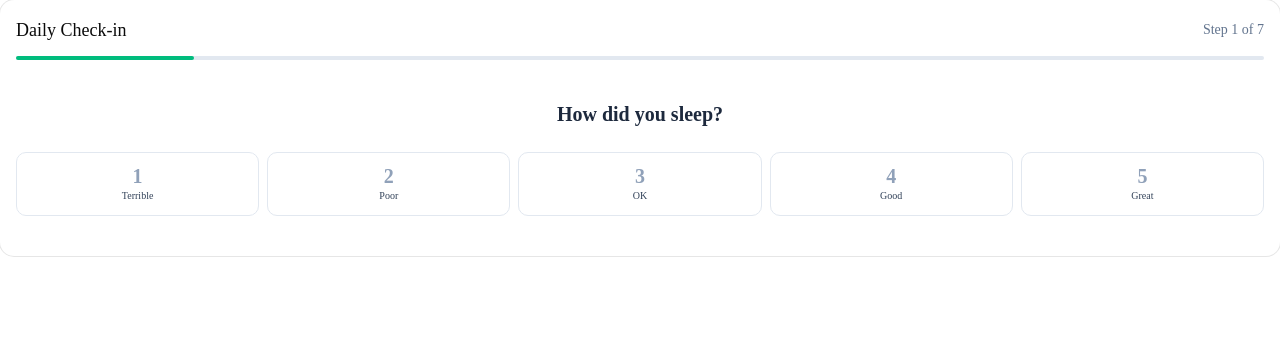
Test: ReadinessForm — illness flag › shows illness toggle on step 6
Expected: the text "How did you sleep?" is shown, [557,103,723,125]
Click the button with aria-label " 4 —" at (891, 184), box [770,152,1013,216]
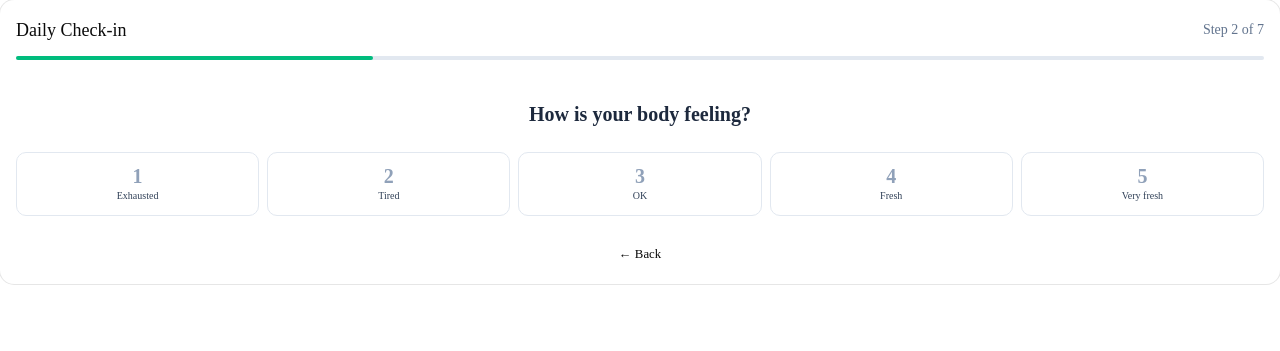
Result: the text "How is your body feeling?" is shown at [529,103,751,125]
Click the button with aria-label " 4 —" at (891, 184), box [770,152,1013,216]
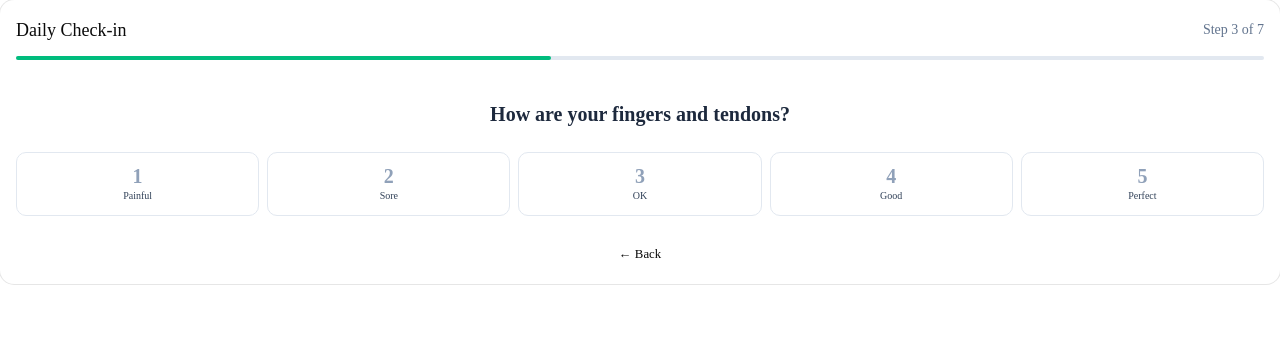
Result: the text "How are your fingers and tendons?" is shown at [490,103,790,125]
Click the button with aria-label " 4 —" at (891, 184), box [770,152,1013,216]
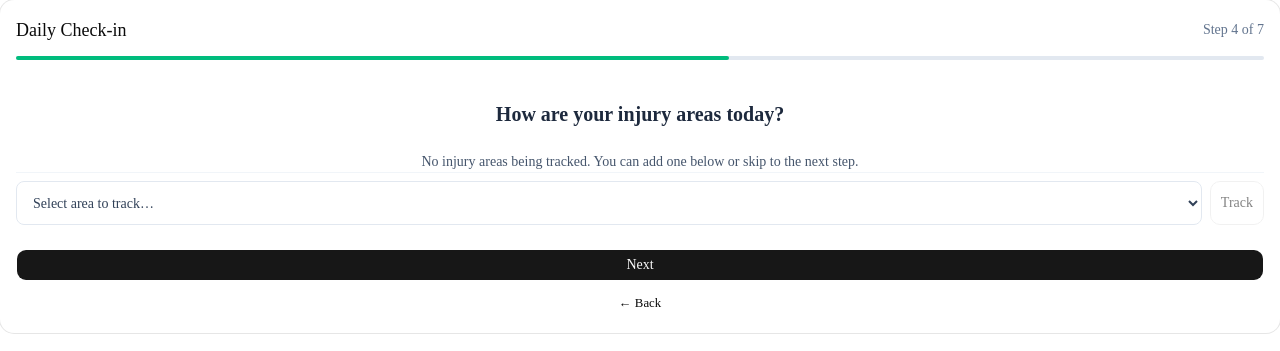
Result: the text "How are your injury areas today?" is shown at [496,103,784,125]
Click the button "Next" at (640, 265), box [16,249,1264,281]
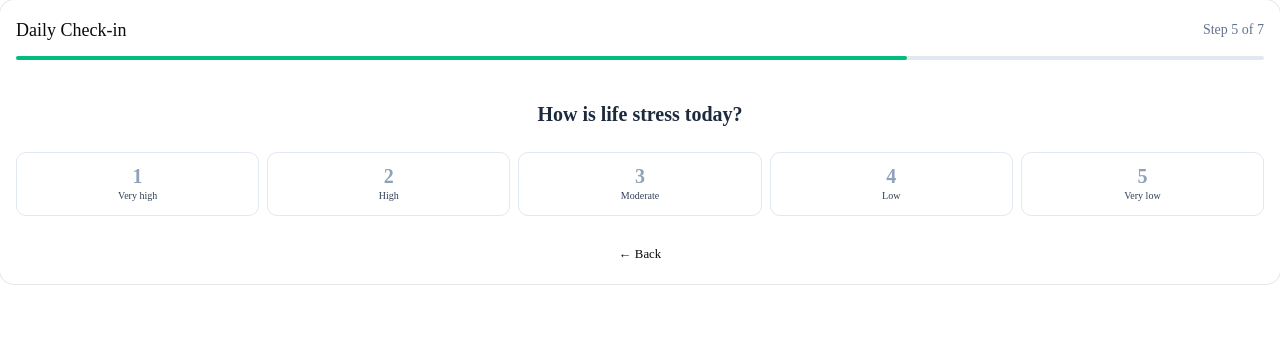
Result: the text "How is life stress today?" is shown at [537,103,743,125]
Click the button with aria-label " 4 —" at (891, 184), box [770,152,1013,216]
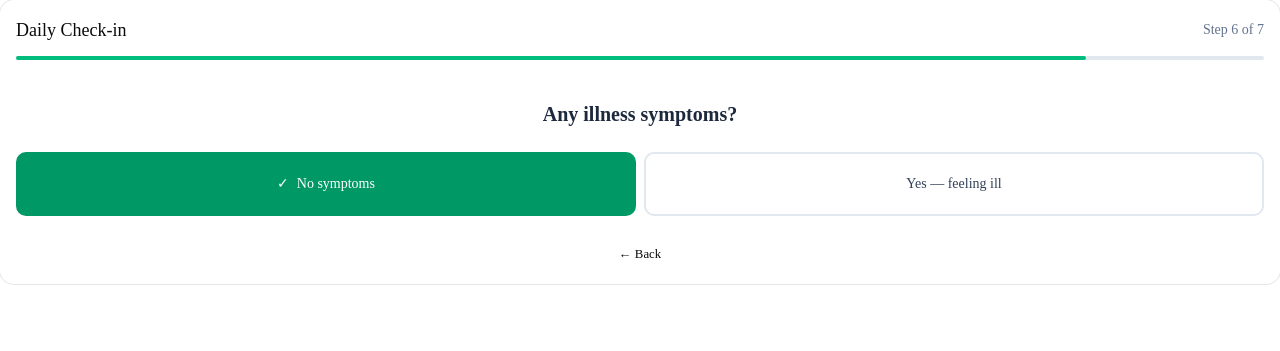
Result: the text "Any illness symptoms?" is shown at [543,103,737,125]
Result: the button "✓ No symptoms" is shown at [16,152,636,216]
Result: the button "Yes — feeling ill" is shown at [644,152,1264,216]
